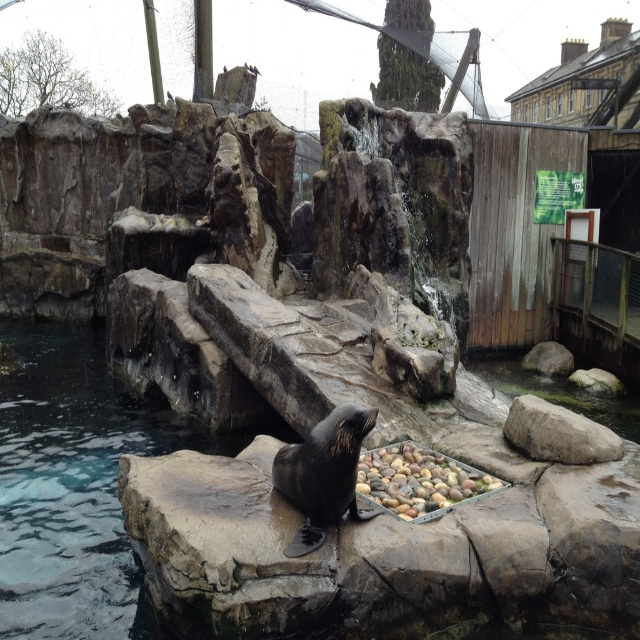Sea lion: (273, 405, 384, 559)
